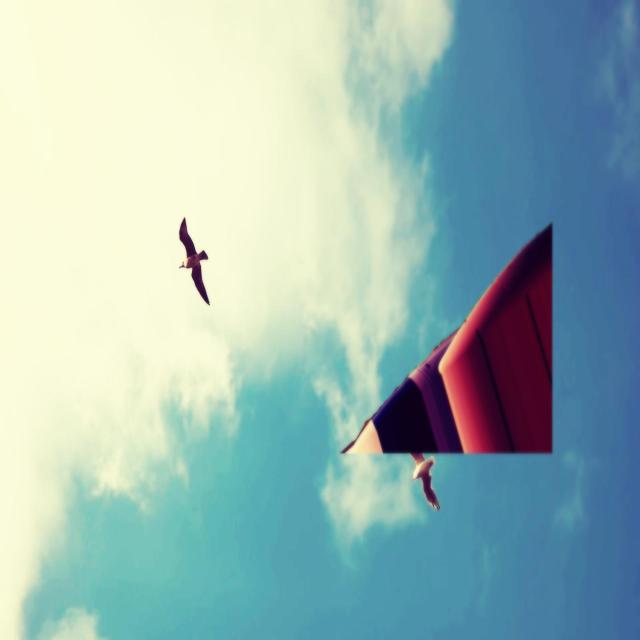airplane: (340, 224, 552, 454)
